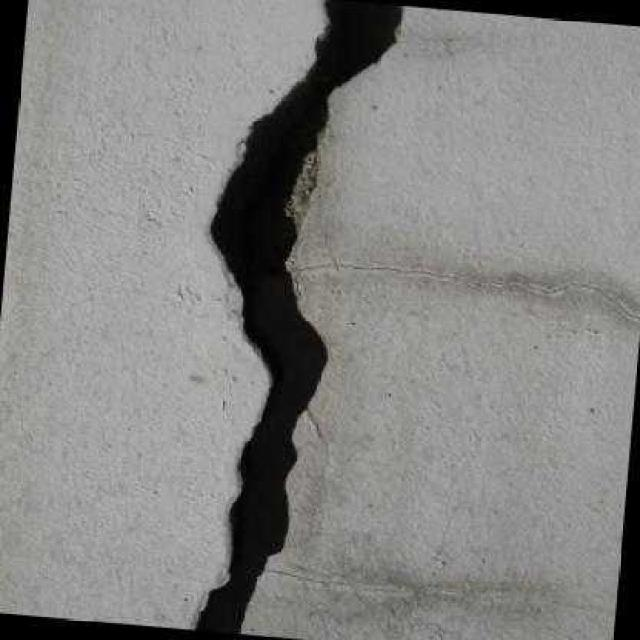D00: (190, 0, 402, 634), (290, 263, 640, 321)
